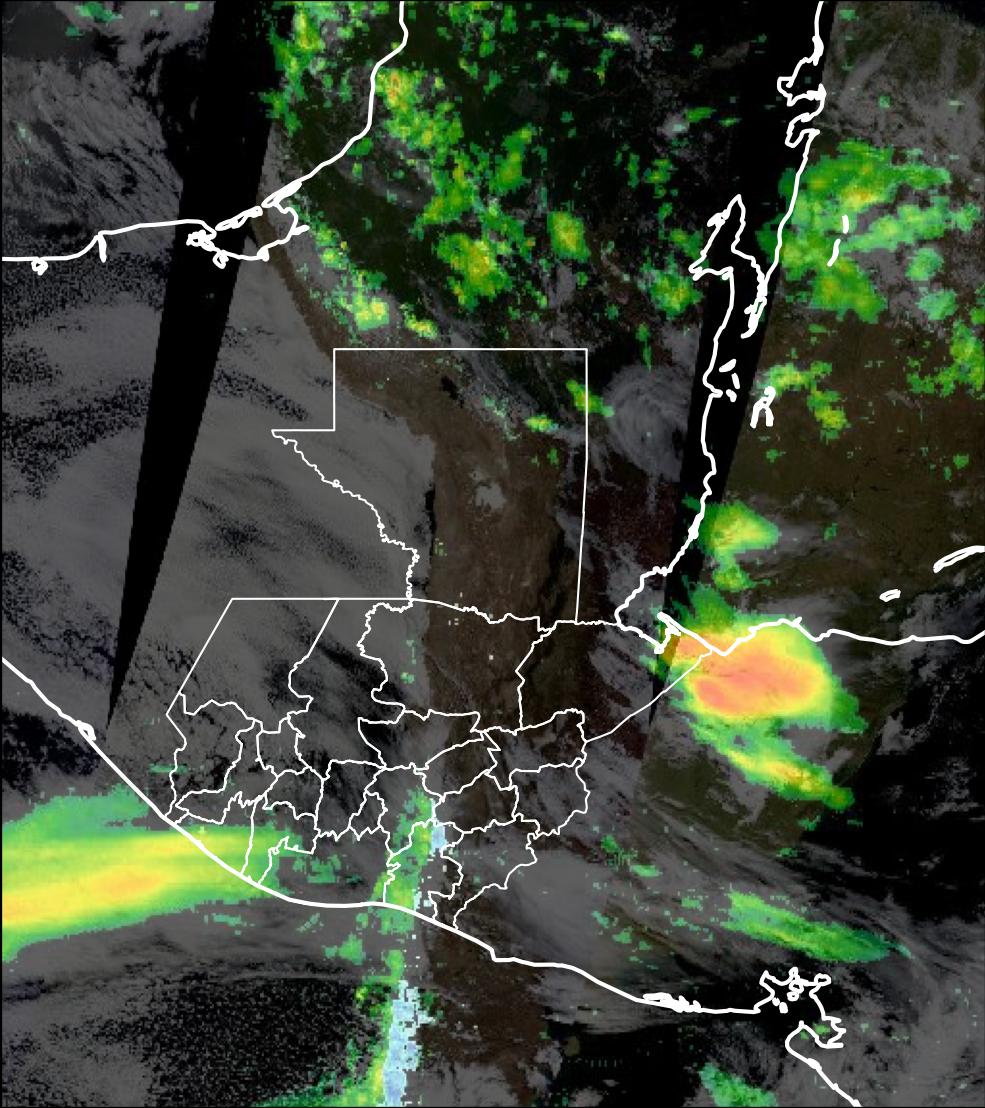precipitacion: (644, 599, 874, 746), (1, 855, 191, 956)
